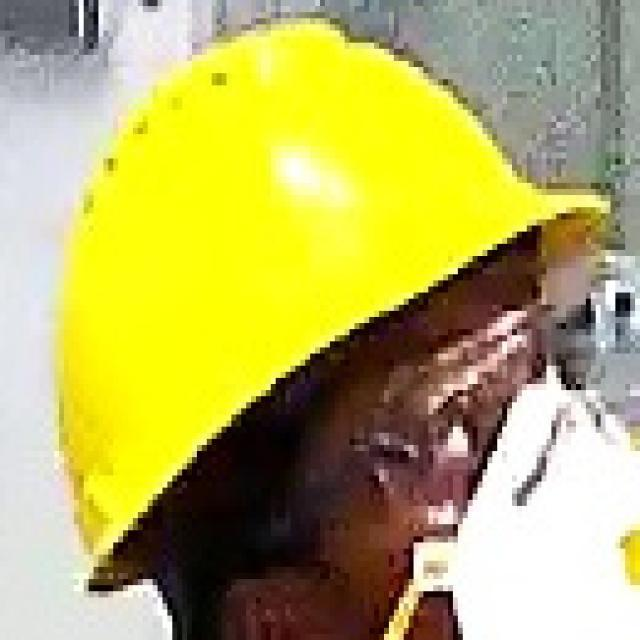yellow helmet: (39, 24, 629, 584)
